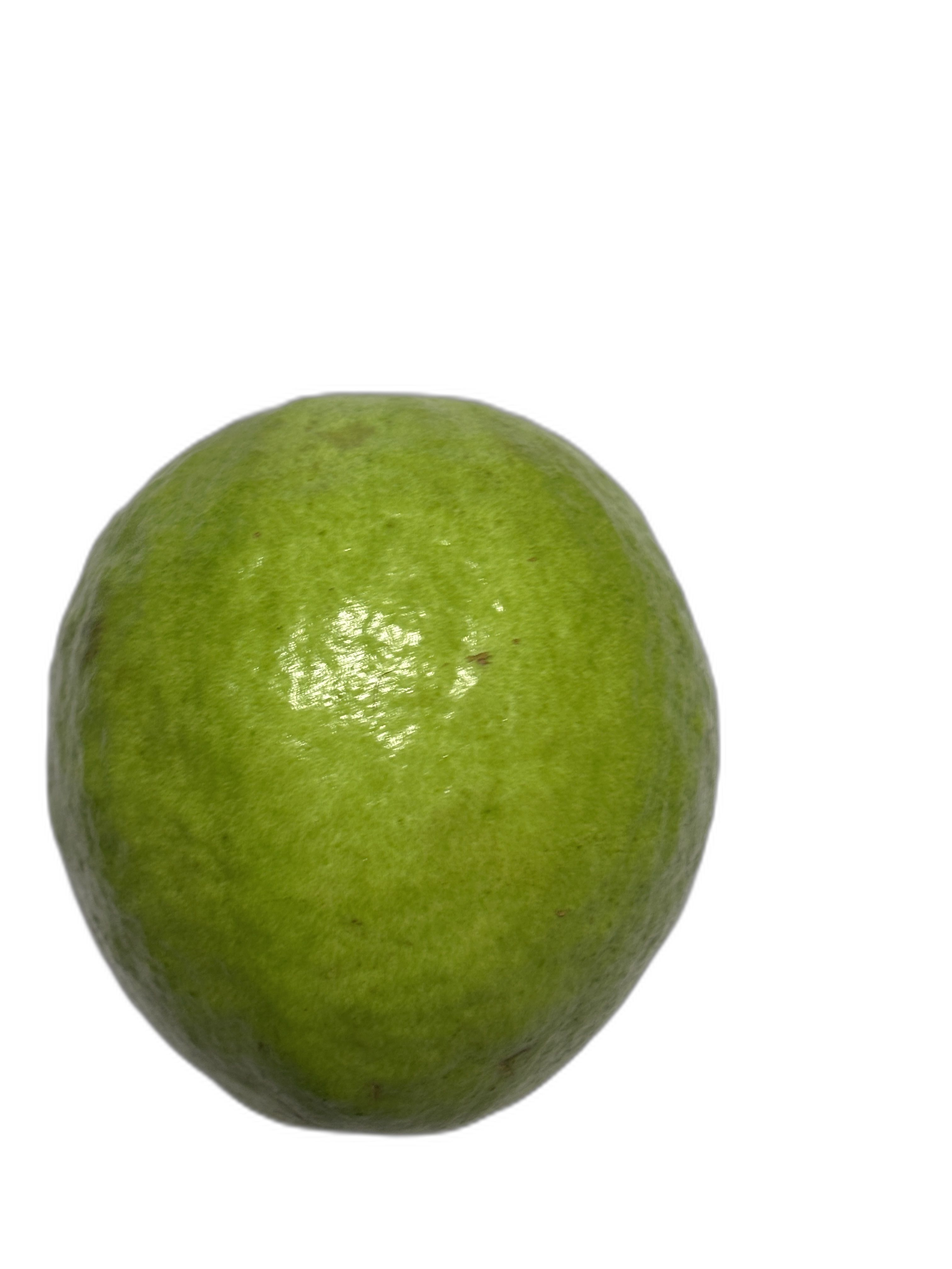guava: (112, 146, 694, 1122)
